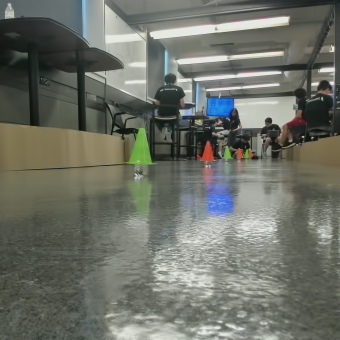Cone: (126, 127, 152, 162)
